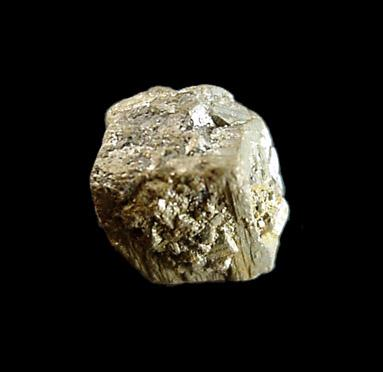pyrite: (89, 85, 290, 286)
